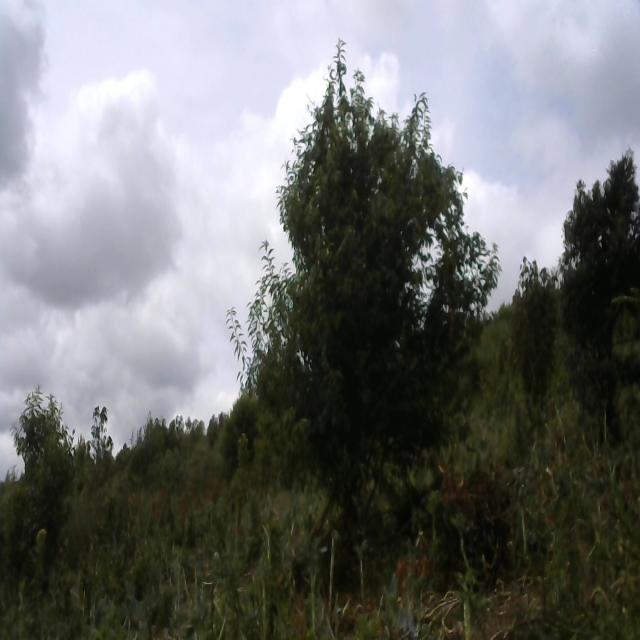other: (224, 28, 503, 552), (561, 145, 640, 440), (7, 384, 80, 560), (511, 252, 561, 408)
